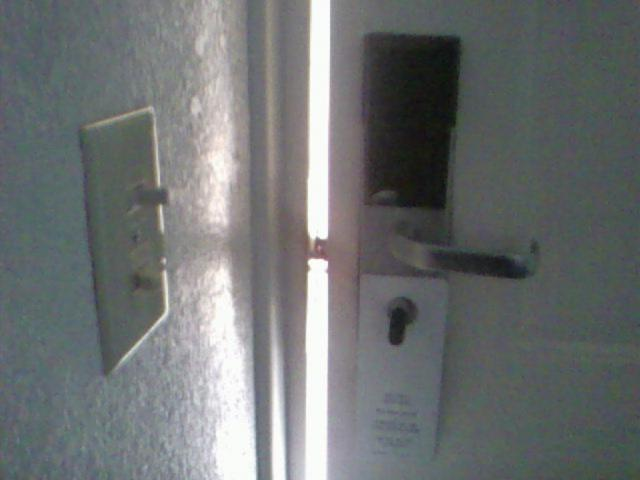Door-handle: (356, 34, 542, 465)
